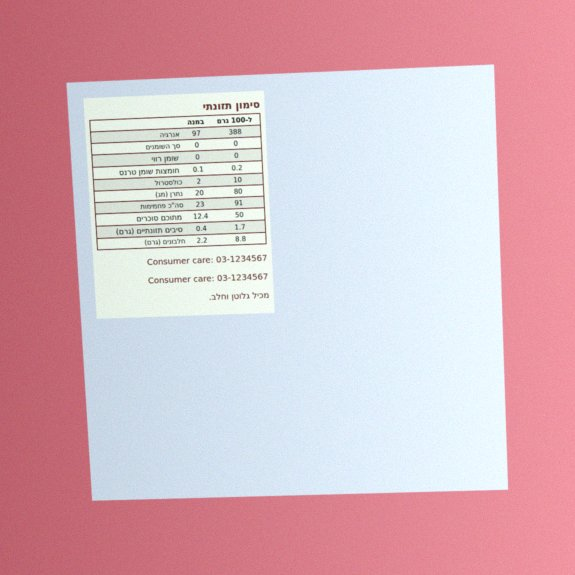carbs: (233, 198, 244, 208)
energy: (227, 126, 243, 137)
fat: (232, 138, 239, 149)
protein: (234, 234, 247, 244)
